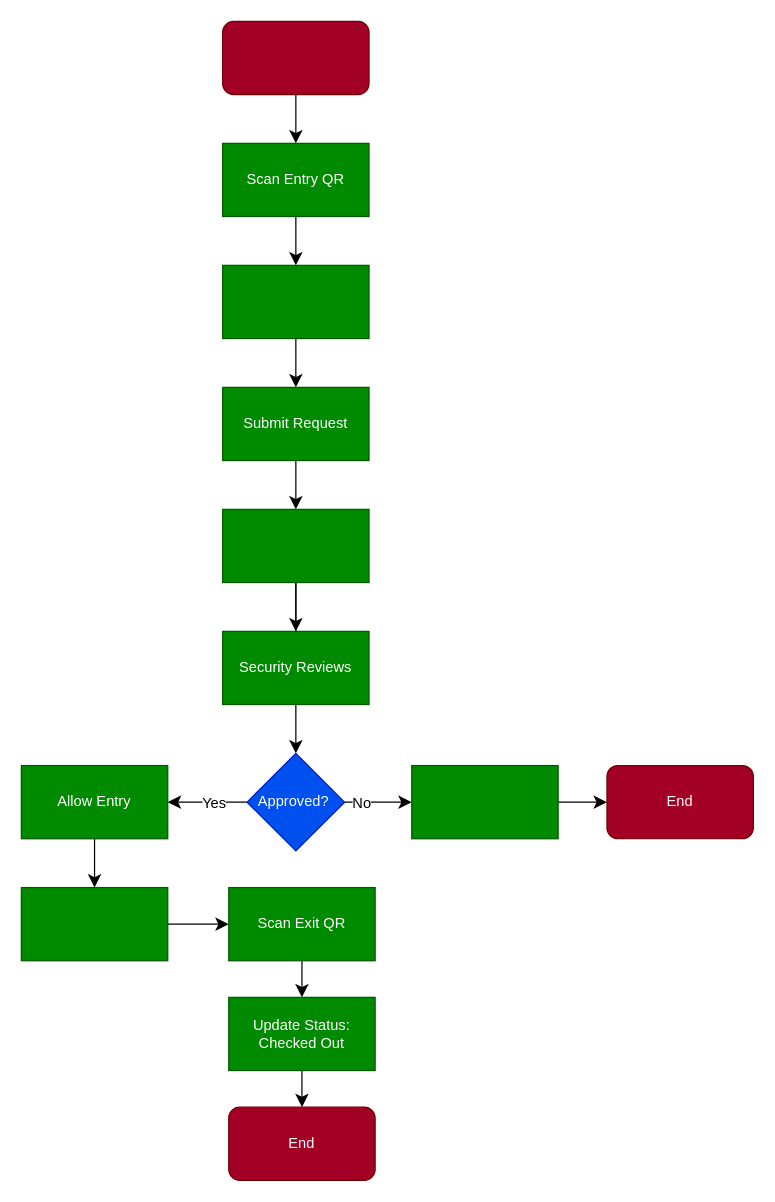
The diagram is 775 pixels wide and 1202 high, and some of its shapes have lost their labels. The shapes that lost their labels are listed below. From the top down, each one's box as (x1, y1, x2, y2) in pixels, then its label:
(221, 20, 369, 95): Start
(221, 264, 369, 339): Fill Visitor Form
(221, 508, 369, 583): Status = Pending
(411, 764, 558, 839): Reject Entry
(20, 886, 168, 961): Inside Campus
